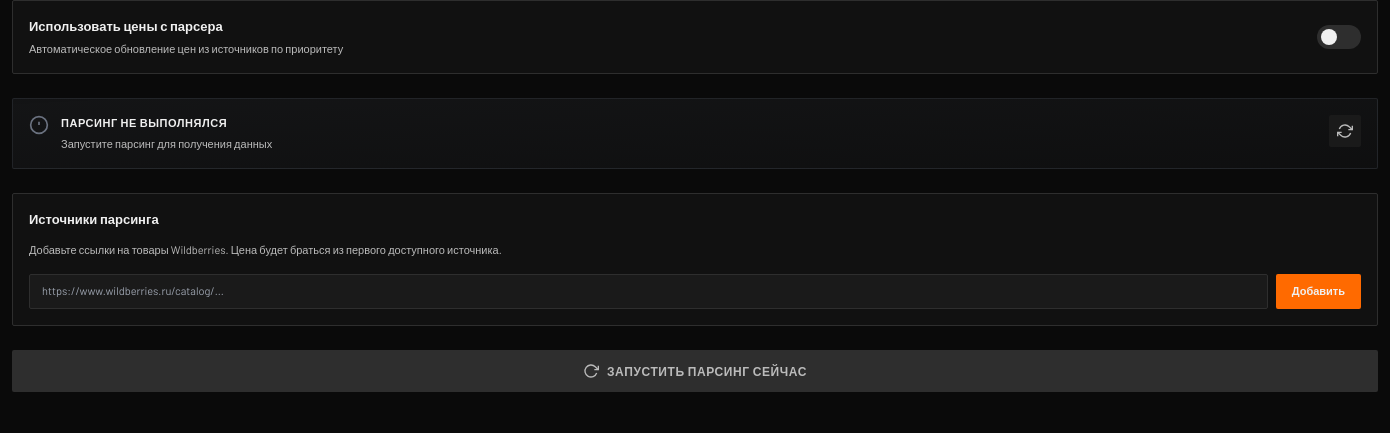
Test case: ProductParserConfig › URL validation › должен показать ошибку при пустом URL
Click the button "Добавить" at (1318, 291), box [1276,274,1361,308]
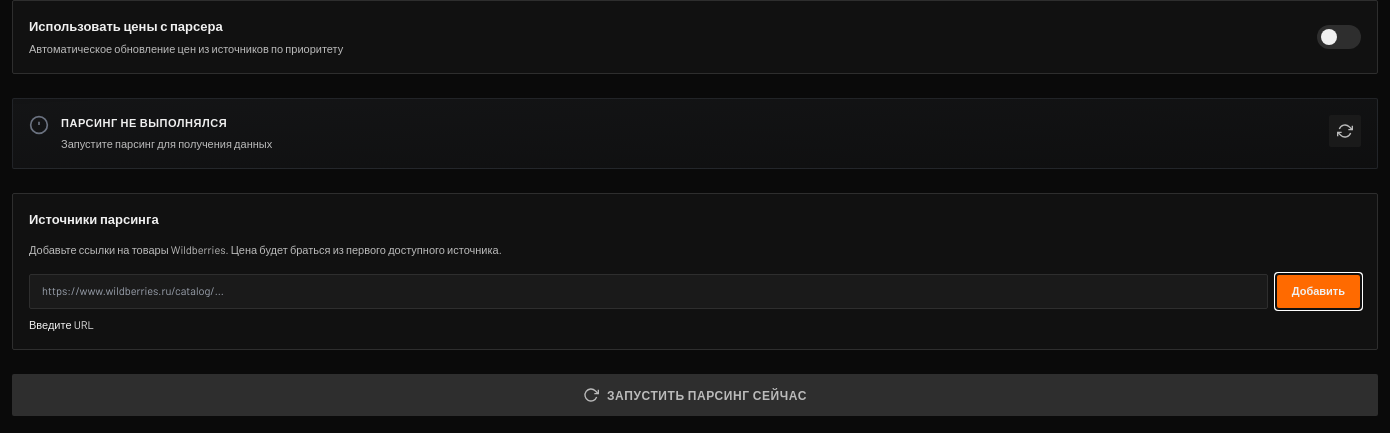
Now the text "Введите URL" is shown, box [29,318,94,330]
